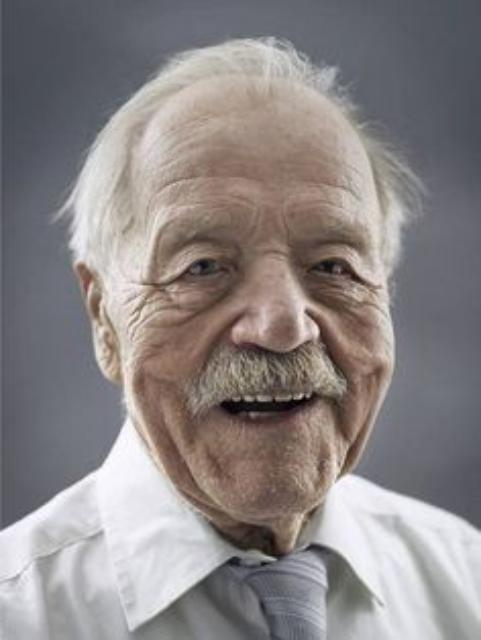crows_feet: (127, 267, 171, 311), (355, 274, 385, 316)
forehead: (306, 174, 366, 204), (150, 169, 208, 195)
frown_line: (255, 241, 287, 265), (245, 200, 265, 232), (273, 206, 293, 238)
gummy_smile: (196, 310, 240, 358), (312, 309, 336, 366)
masseter: (161, 414, 199, 494), (359, 362, 381, 442)
